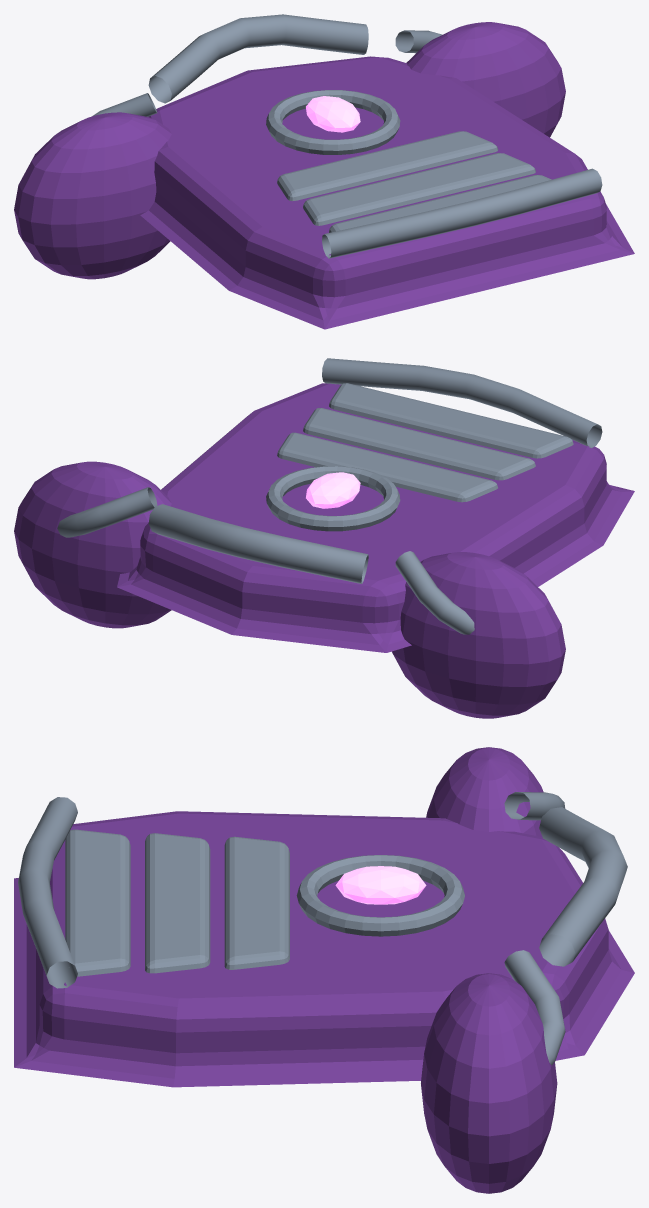
Rendered from armor_eclipse.glb.
3 views of the same model, one above another, from view 1: azimuth 30°, elevation 25°; view 2: azimuth 150°, elevation 25°; view 3: azimuth 270°, elevation 25° (orthographic). The views are drawn at different scales.
Visible parts, largest first — view 1: Breastplate, ShoulderGuard, ShoulderGuard.001, WaistTrim, Collar, AbPlate.001, AbPlate.002, ArcaneChest, AbPlate, ChestGem, ShoulderTrim, ShoulderTrim.001; view 2: Breastplate, ShoulderGuard, ShoulderGuard.001, WaistTrim, Collar, AbPlate, AbPlate.001, AbPlate.002, ArcaneChest, ShoulderTrim, ShoulderTrim.001, ChestGem; view 3: Breastplate, ShoulderGuard.001, AbPlate, AbPlate.001, AbPlate.002, Collar, ShoulderGuard, ArcaneChest, WaistTrim, ChestGem, ShoulderTrim.001, ShoulderTrim.
Boxes of the visible parts, box(x1,y1,x2,y2) form: Breastplate: box(140, 56, 634, 329); ShoulderGuard: box(14, 112, 171, 279); ShoulderGuard.001: box(406, 22, 565, 137); WaistTrim: box(322, 168, 602, 258); Collar: box(148, 14, 368, 103); AbPlate.001: box(303, 153, 535, 225); AbPlate.002: box(277, 131, 498, 201); ArcaneChest: box(266, 90, 400, 154); AbPlate: box(329, 175, 551, 232); ChestGem: box(306, 96, 360, 132); ShoulderTrim: box(92, 93, 157, 116); ShoulderTrim.001: box(395, 30, 442, 53); Breastplate: box(117, 383, 634, 652); ShoulderGuard: box(392, 552, 565, 718); ShoulderGuard.001: box(14, 461, 171, 628); WaistTrim: box(322, 358, 602, 447); Collar: box(148, 504, 368, 583); AbPlate: box(329, 383, 573, 458); AbPlate.001: box(303, 408, 535, 480); AbPlate.002: box(277, 432, 497, 502); ArcaneChest: box(266, 466, 400, 531); ShoulderTrim: box(395, 551, 474, 634); ShoulderTrim.001: box(57, 487, 157, 537); ChestGem: box(306, 472, 360, 508); Breastplate: box(14, 811, 634, 1087); ShoulderGuard.001: box(421, 973, 557, 1193); AbPlate: box(65, 829, 130, 976); AbPlate.001: box(145, 833, 210, 973); AbPlate.002: box(224, 836, 289, 969); Collar: box(539, 807, 627, 966); ShoulderGuard: box(426, 747, 543, 837); ArcaneChest: box(296, 855, 464, 936); WaistTrim: box(18, 797, 77, 988); ChestGem: box(335, 866, 426, 904); ShoulderTrim.001: box(504, 950, 565, 1065); ShoulderTrim: box(504, 792, 565, 820).
Bounding box in the file's own units: 1.38 × 0.4226 × 1.09.
